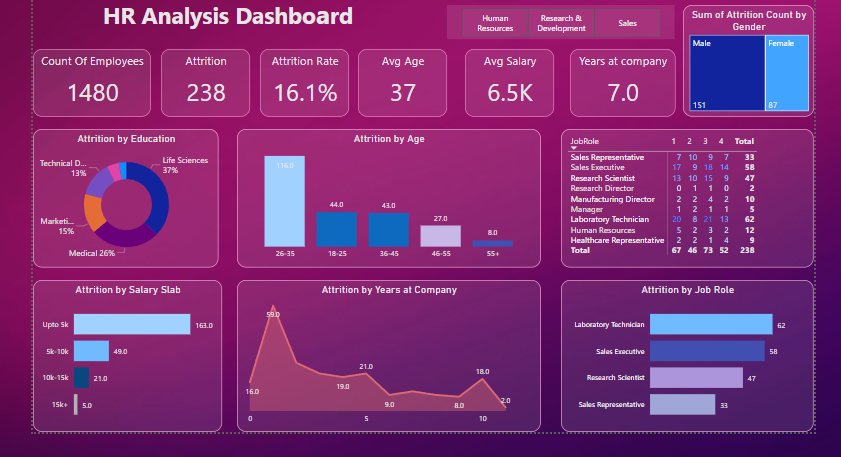

What the dashboard file says about the page in this screenshot:
{"tool":"powerbi","page":{"name":"Page 1","canvas":[1280,720],"ordinal":0},"visuals":[{"type":"textbox","box":[0,0,639.5,76.1],"z":0},{"type":"card","title":"Count Of Employees","fields":{"Values":["CountNonNull(HR_Analytics.EmpID)"]},"box":[0,92.2,193.2,111.2],"z":1000},{"type":"card","title":"Attrition","fields":{"Values":["Sum(HR_Analytics.Attrition Count)"]},"box":[209.3,92.2,146.3,111.2],"z":2000},{"type":"card","title":"Attrition Rate","fields":{"Values":["HR_Analytics.AttritionRate"]},"box":[371.7,92.2,146.3,111.2],"z":3000},{"type":"card","title":"Avg Age","fields":{"Values":["Avg(HR_Analytics.Age)"]},"box":[532.7,92.2,146.3,111.2],"z":4000},{"type":"card","title":"Avg Salary","fields":{"Values":["Avg(HR_Analytics.MonthlyIncome)"]},"box":[708.3,92.2,146.3,111.2],"z":5000},{"type":"card","title":"Years at company","fields":{"Values":["Avg(HR_Analytics.YearsAtCompany)"]},"box":[879.5,92.2,172.7,111.2],"z":6000},{"type":"donutChart","title":"Attrition by Education","fields":{"Category":["HR_Analytics.EducationField"],"Y":["Sum(HR_Analytics.Attrition Count)"]},"box":[0,222.4,304.4,226.8],"z":7000},{"type":"columnChart","title":"Attrition by Age","fields":{"Category":["HR_Analytics.AgeGroup"],"Y":["Sum(HR_Analytics.Attrition Count)"]},"box":[335.1,222.4,497.6,226.8],"z":8000},{"type":"pivotTable","fields":{"Rows":["HR_Analytics.JobRole"],"Columns":["HR_Analytics.JobSatisfaction"],"Values":["Sum(HR_Analytics.Attrition Count)"]},"box":[866.3,222.4,414.1,226.8],"z":9000},{"type":"barChart","title":"Attrition by Salary Slab","fields":{"Category":["HR_Analytics.SalarySlab"],"Y":["Sum(HR_Analytics.Attrition Count)"]},"box":[0,471.2,310.2,248.8],"z":10000},{"type":"barChart","title":"Attrition by Job Role","fields":{"Category":["HR_Analytics.JobRole"],"Y":["Sum(HR_Analytics.Attrition Count)"]},"box":[866.3,471.2,414.1,248.8],"z":11000},{"type":"areaChart","title":"Attrition by Years at Company","fields":{"Category":["HR_Analytics.YearsAtCompany"],"Y":["Sum(HR_Analytics.Attrition Count)"]},"box":[335.1,471.2,497.6,248.8],"z":12000},{"type":"treemap","fields":{"Group":["HR_Analytics.Gender"],"Values":["Sum(HR_Analytics.Attrition Count)"]},"box":[1065.4,20.5,215.1,182.9],"z":13000},{"type":"slicer","fields":{"Values":["HR_Analytics.Department"]},"box":[679,20.5,373.2,55.6],"z":14000}]}

Visuals, with their boxes in screenshot pixels (x1, y1, x2, y2):
textbox: {"x1": 33, "y1": 0, "x2": 420, "y2": 42}
"Count Of Employees" card: {"x1": 33, "y1": 51, "x2": 150, "y2": 119}
"Attrition" card: {"x1": 159, "y1": 51, "x2": 248, "y2": 119}
"Attrition Rate" card: {"x1": 258, "y1": 51, "x2": 346, "y2": 119}
"Avg Age" card: {"x1": 355, "y1": 51, "x2": 443, "y2": 119}
"Avg Salary" card: {"x1": 461, "y1": 51, "x2": 550, "y2": 119}
"Years at company" card: {"x1": 565, "y1": 51, "x2": 669, "y2": 119}
"Attrition by Education" donutChart: {"x1": 33, "y1": 130, "x2": 217, "y2": 267}
"Attrition by Age" columnChart: {"x1": 235, "y1": 130, "x2": 536, "y2": 267}
pivotTable - HR_Analytics.JobRole x HR_Analytics.JobSatisfaction: {"x1": 557, "y1": 130, "x2": 807, "y2": 267}
"Attrition by Salary Slab" barChart: {"x1": 33, "y1": 281, "x2": 220, "y2": 431}
"Attrition by Job Role" barChart: {"x1": 557, "y1": 281, "x2": 807, "y2": 431}
"Attrition by Years at Company" areaChart: {"x1": 235, "y1": 281, "x2": 536, "y2": 431}
treemap - HR_Analytics.Gender x Sum(HR_Analytics.Attrition Count): {"x1": 677, "y1": 8, "x2": 807, "y2": 119}
slicer - HR_Analytics.Department: {"x1": 443, "y1": 8, "x2": 669, "y2": 42}
